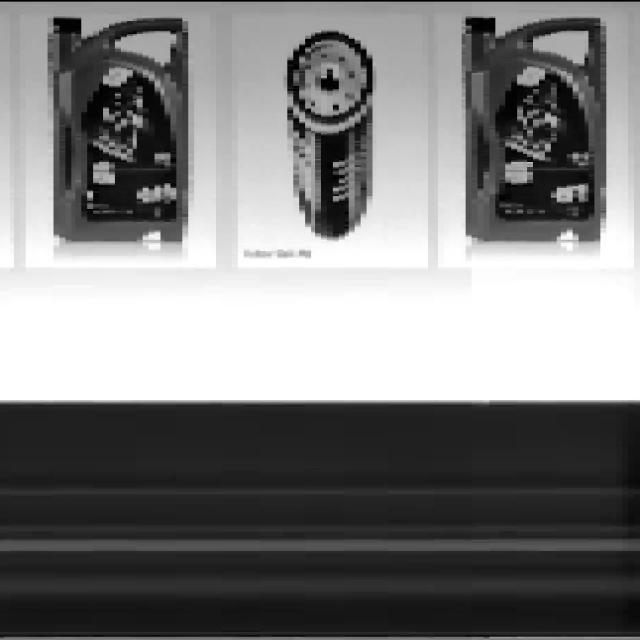motor_oil: (452, 9, 618, 255), (44, 15, 199, 256)
oil_filter: (277, 26, 382, 242)
